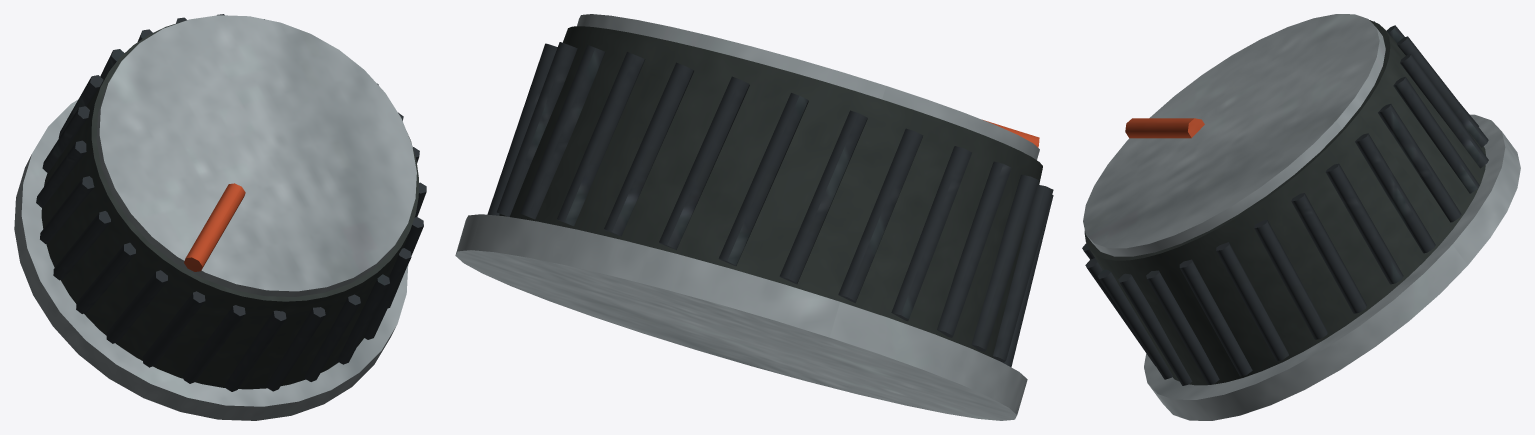
The model's file is prop_camera_focus.fbx.
The picture shows the model from 3 angles, left to right: view 1: azimuth 30°, elevation 25°; view 2: azimuth 150°, elevation 25°; view 3: azimuth 270°, elevation 25°; orthographic projection. The views are drawn at different scales.
Parts seen in each view (by area): view 1: SM_prop_camera_focus; view 2: SM_prop_camera_focus; view 3: SM_prop_camera_focus.
Part boxes in pixels (x1,y1,x2,y2): SM_prop_camera_focus: [14, 14, 426, 420]; SM_prop_camera_focus: [455, 14, 1053, 420]; SM_prop_camera_focus: [1082, 14, 1520, 420].
Size of the model in its own units: 0.078 by 0.0686 by 0.0786.
Materials: 4 (4 with a texture image).
